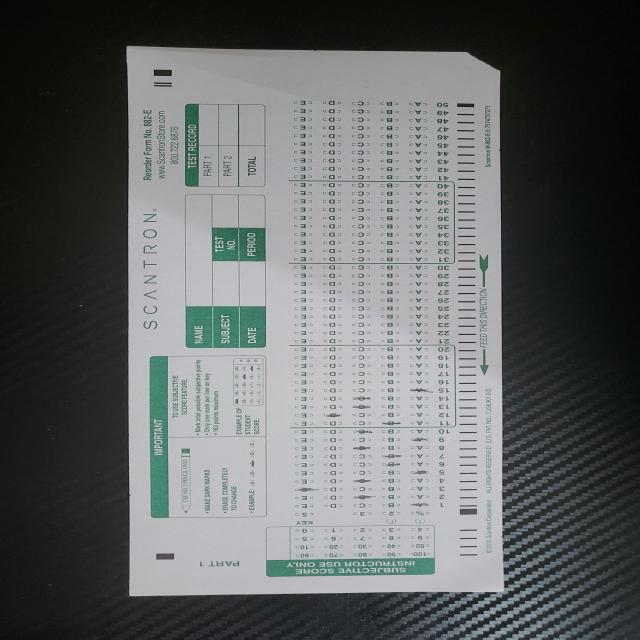scantron: (128, 46, 503, 595)
